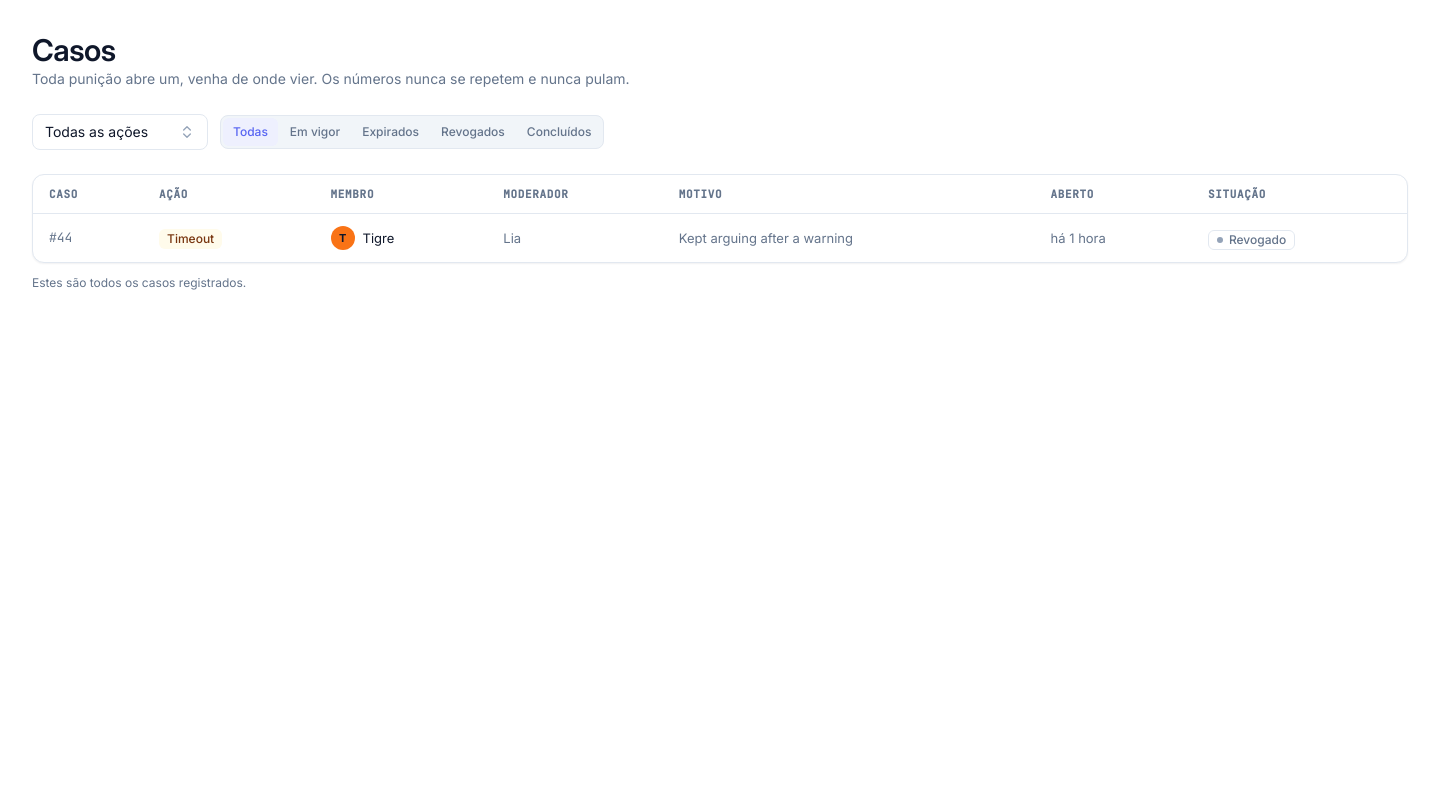
Scenario: CasesScreen › names the withdrawer in Portuguese too
Click the button with aria-label "Abrir o caso 44". click: (720,238)
box: [33,214,1407,262]
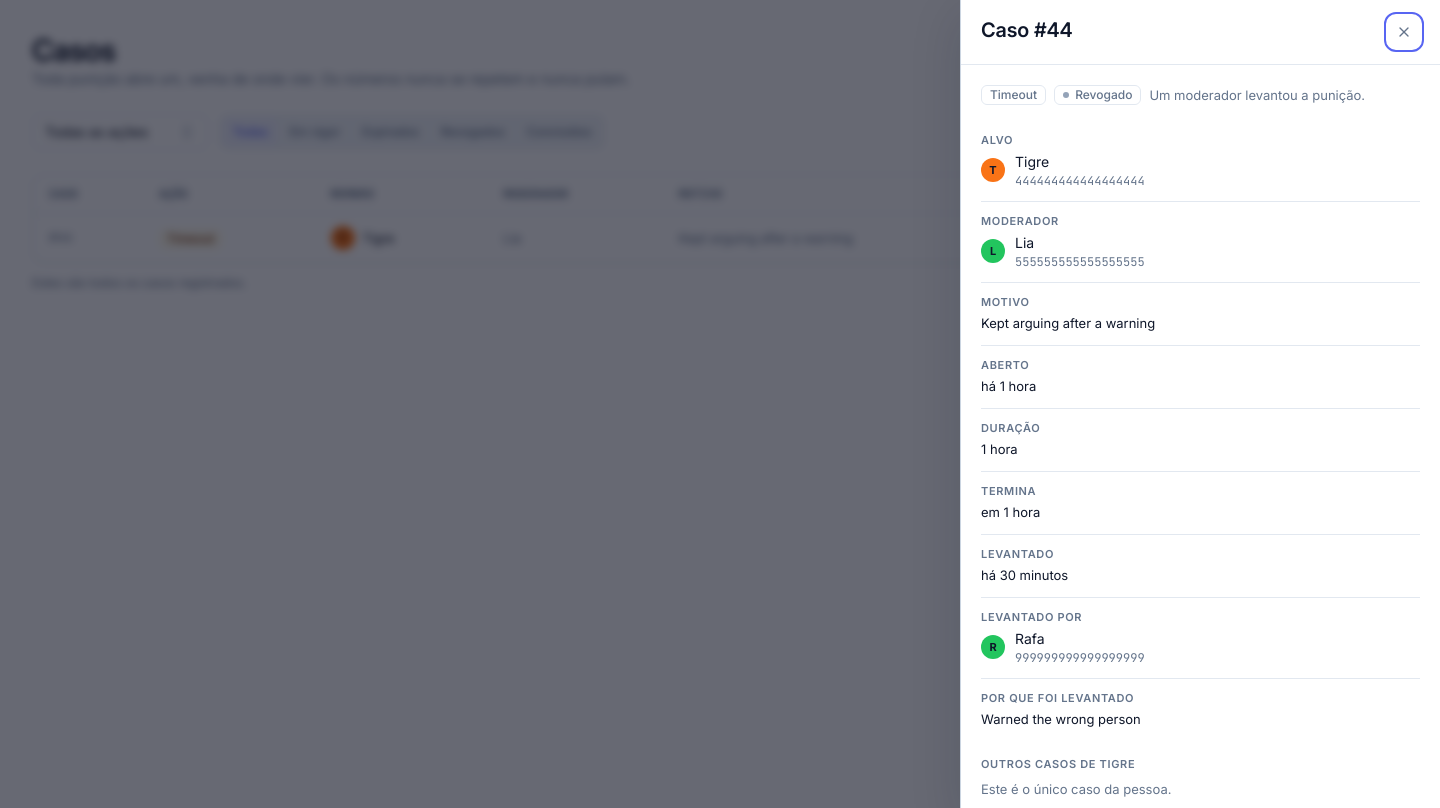
expect the text "Levantado por" is shown: met, box [981,610,1082,624]
